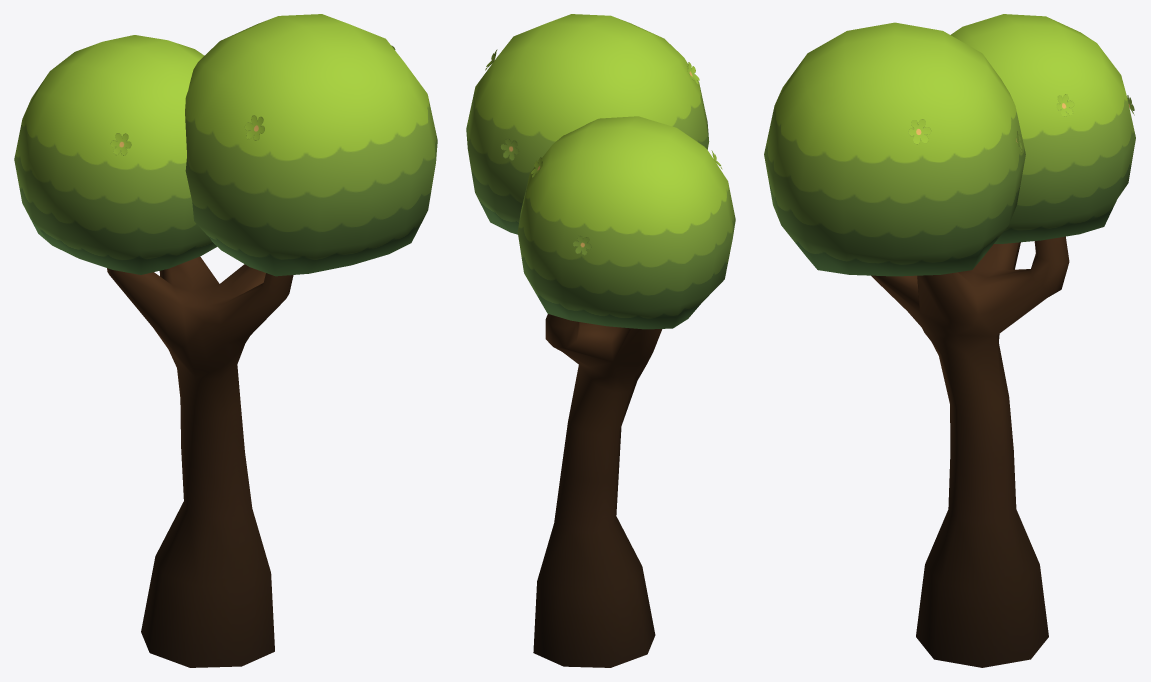
The model's file is Pohon2.fbx.
3 views of the same model, side by side, from view 1: azimuth 30°, elevation 25°; view 2: azimuth 150°, elevation 25°; view 3: azimuth 270°, elevation 25° (orthographic). The views are drawn at different scales.
Visible parts, largest first — view 1: Pohon2_LOD0; view 2: Pohon2_LOD0; view 3: Pohon2_LOD0.
Part boxes in pixels (x1,y1,x2,y2): Pohon2_LOD0: (14,14,437,667); Pohon2_LOD0: (466,14,735,667); Pohon2_LOD0: (764,14,1135,667).
Size of what is drawn, in the model's own units: 245 by 460 by 247.
